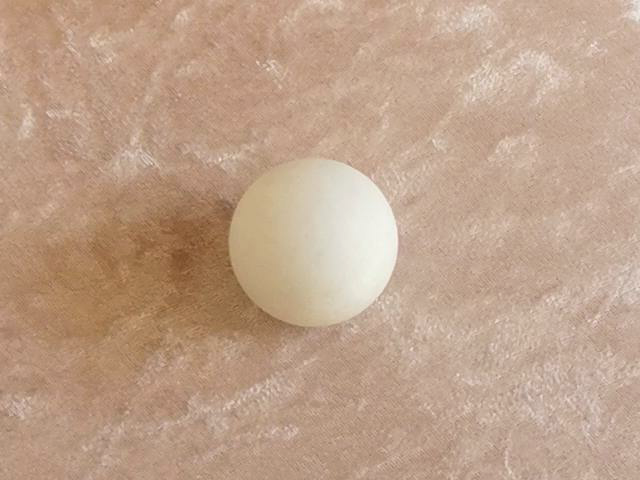ball: (227, 158, 400, 328)
